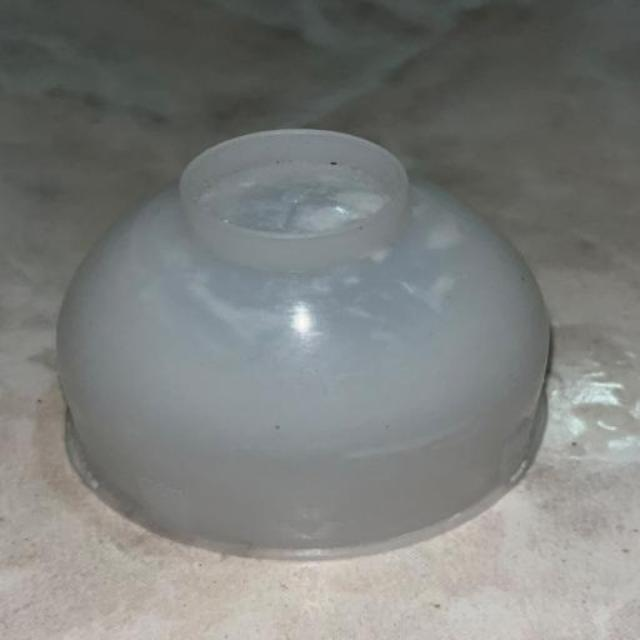PET: (6, 100, 612, 610)
